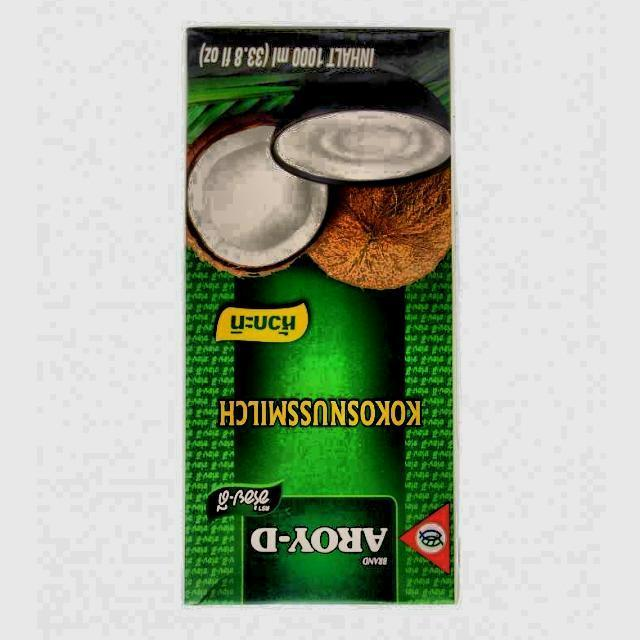cardboard: (183, 28, 457, 606)
